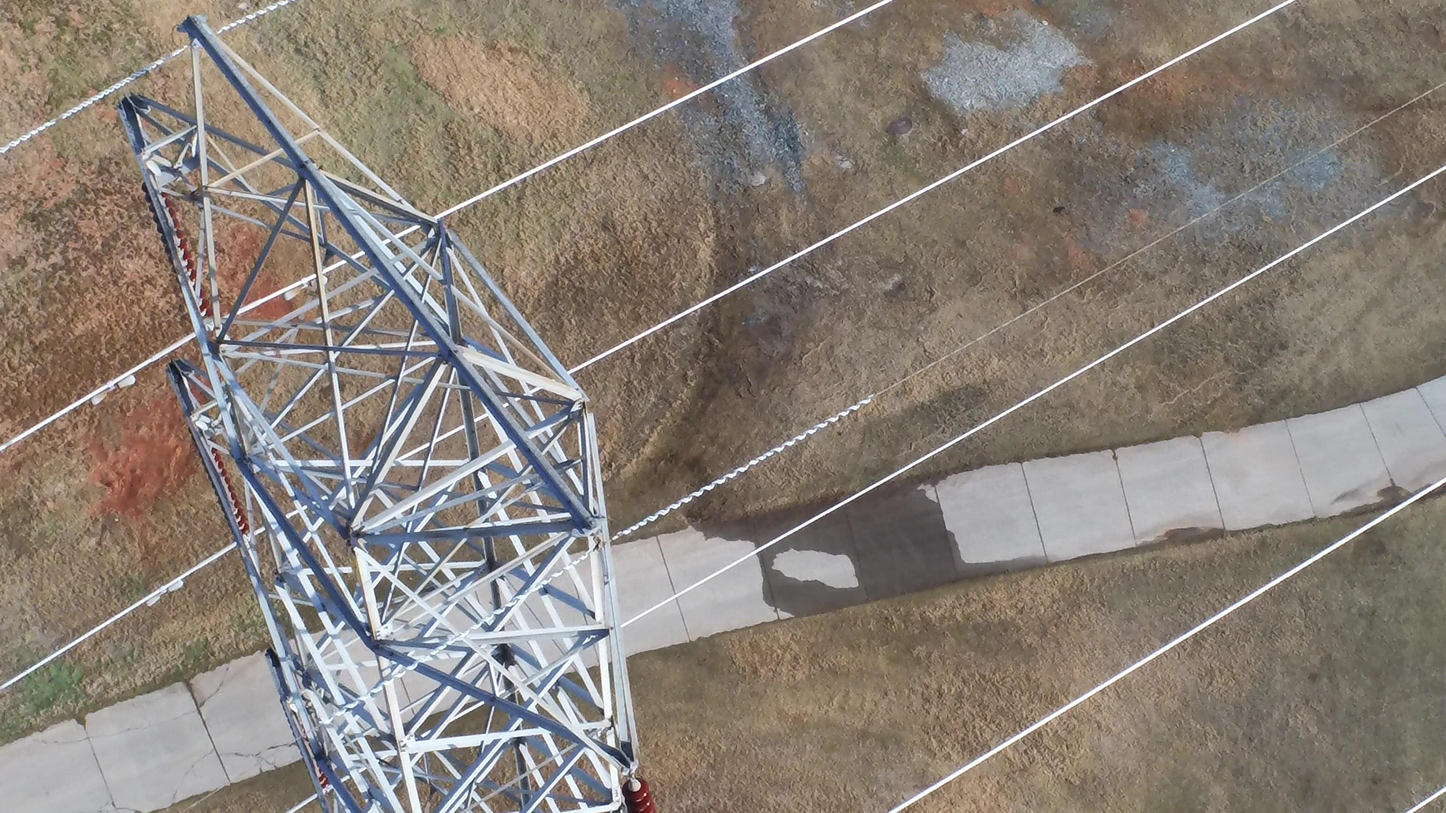power_tower: (114, 13, 662, 813)
